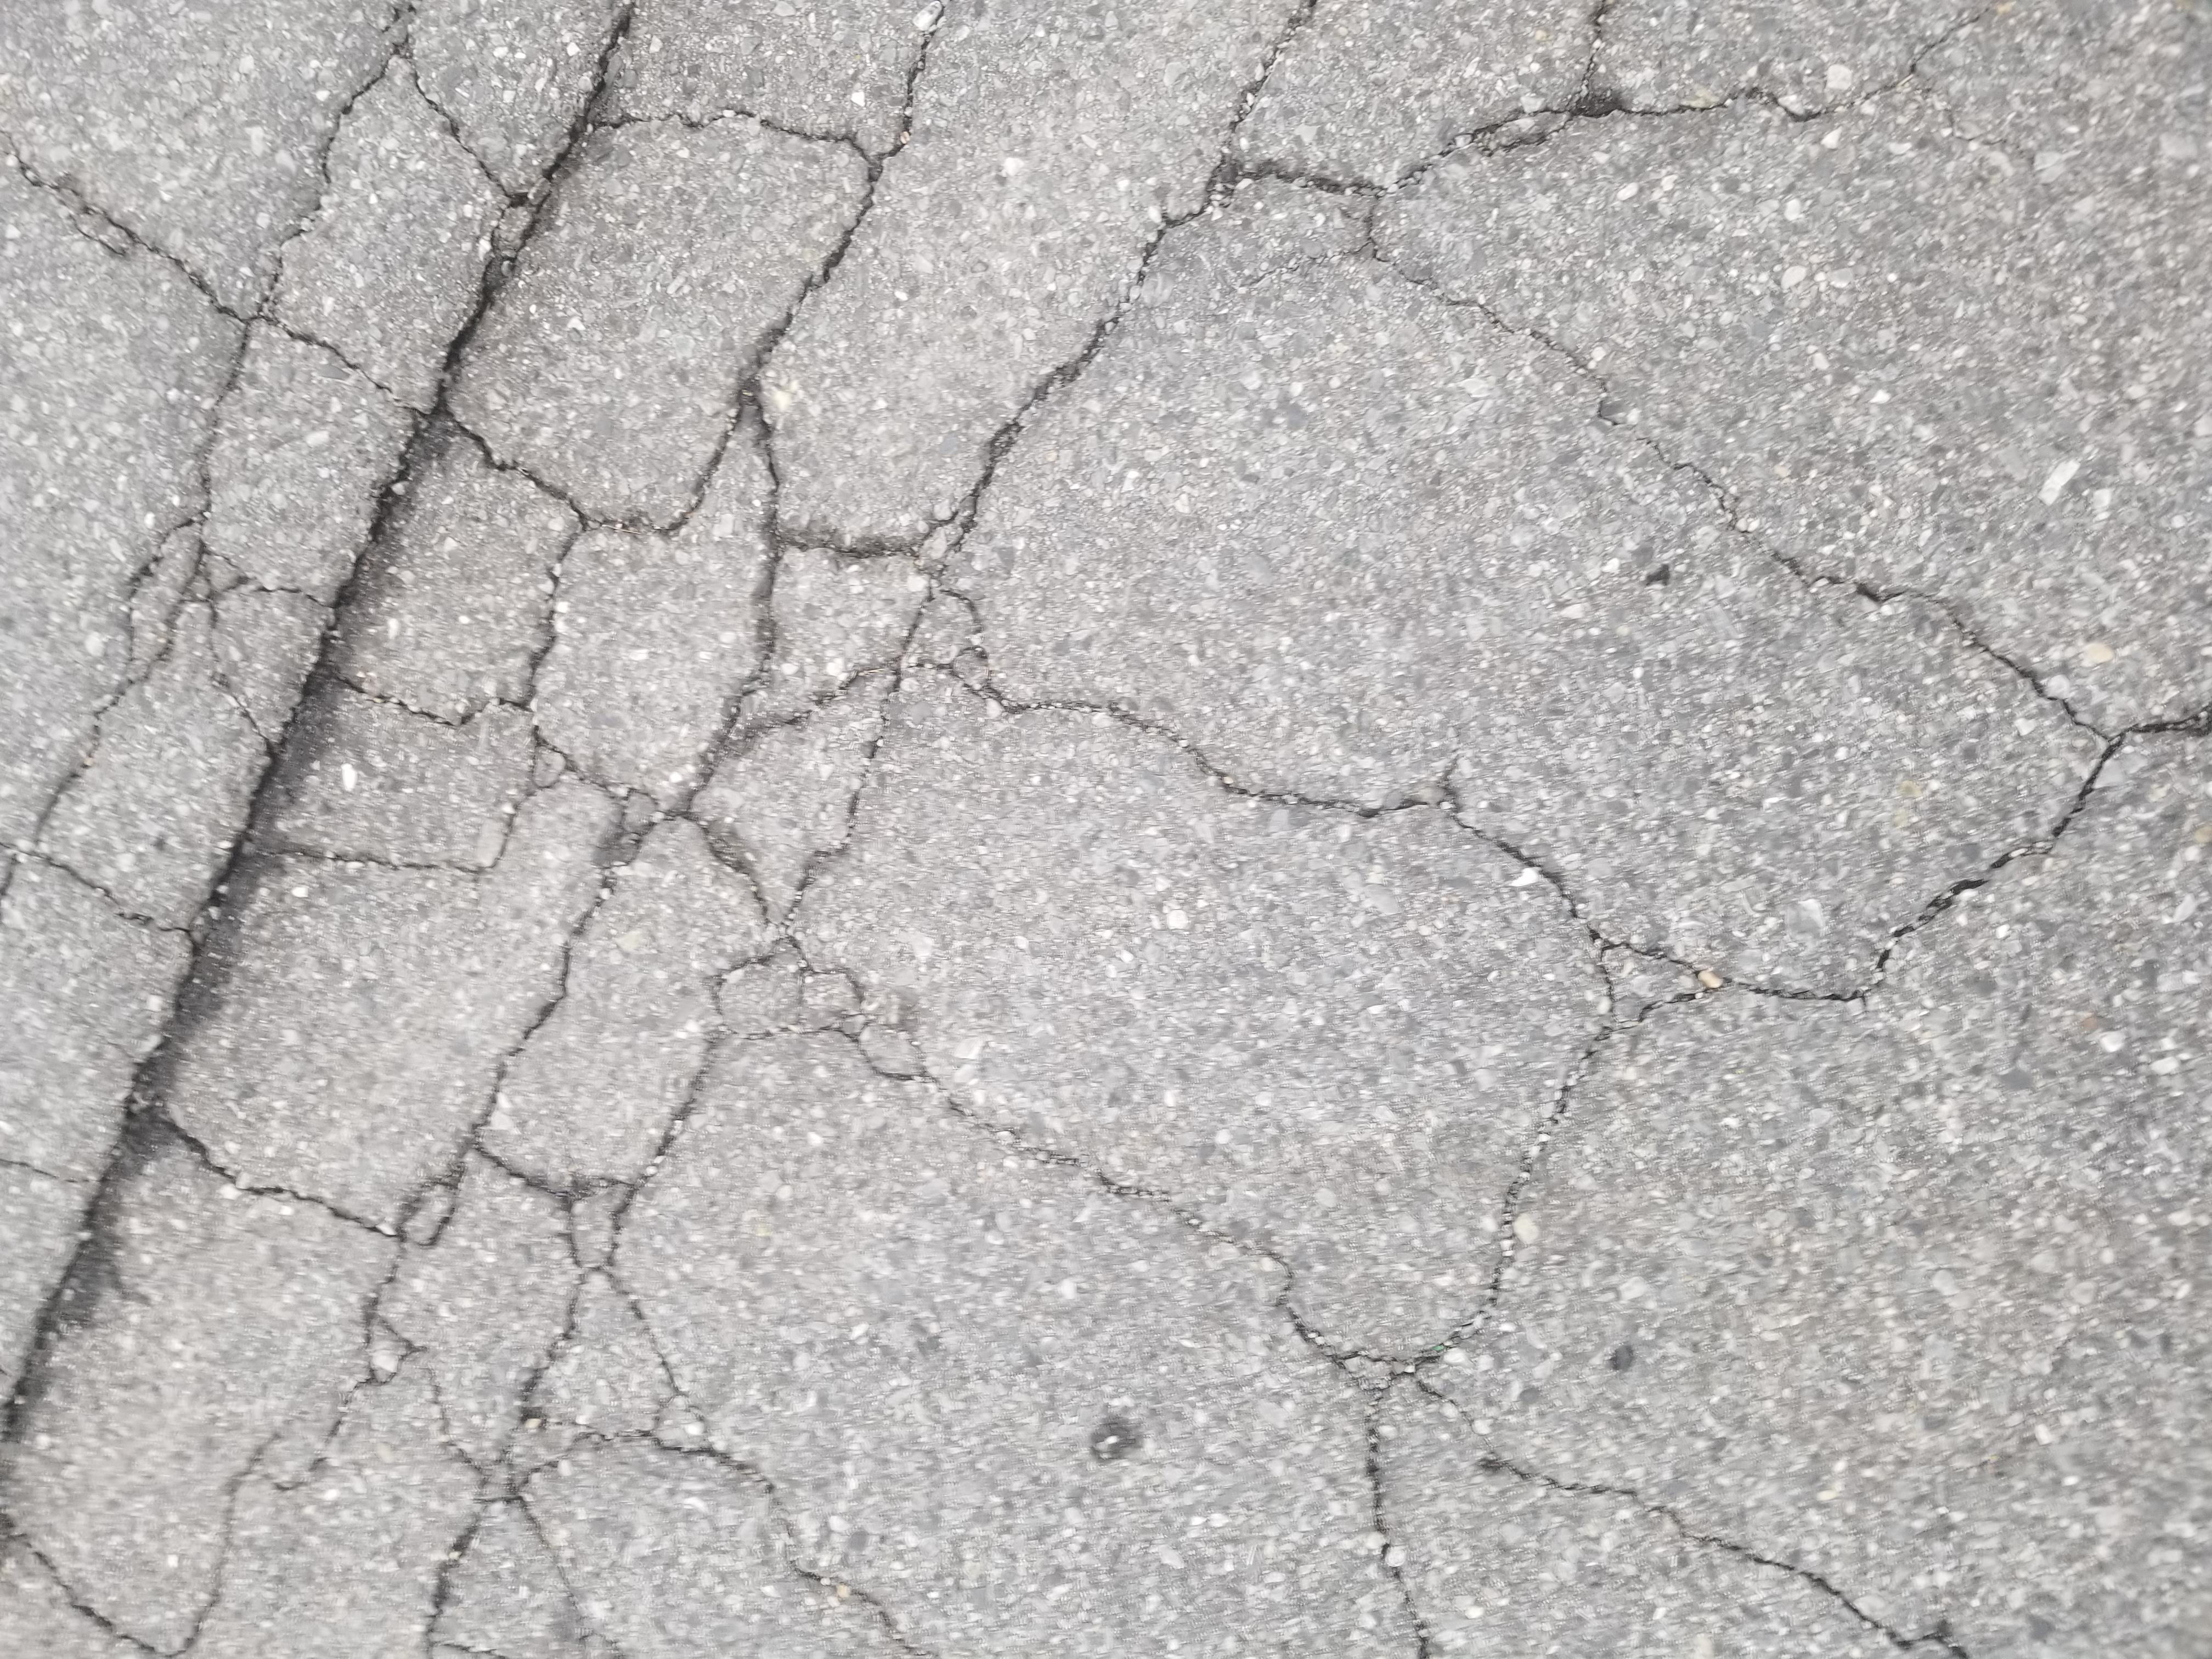alligator-crack: (23, 5, 2212, 1633)
